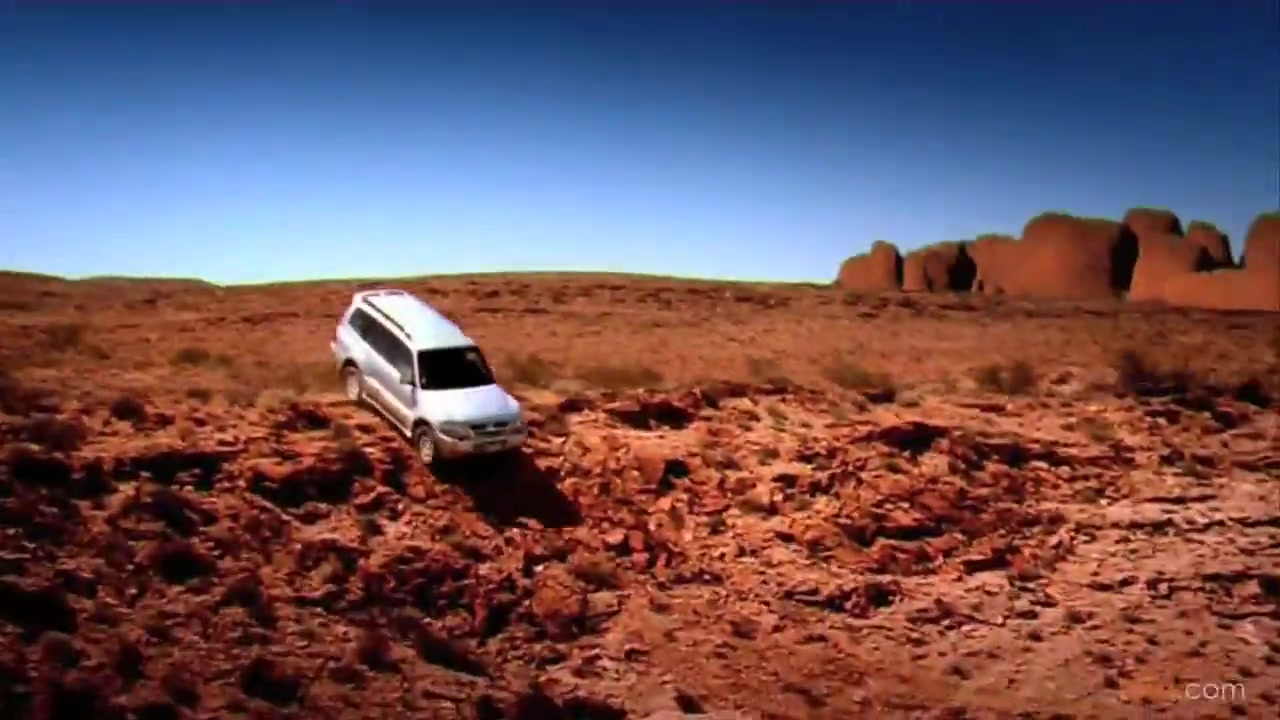car: (332, 283, 530, 460)
